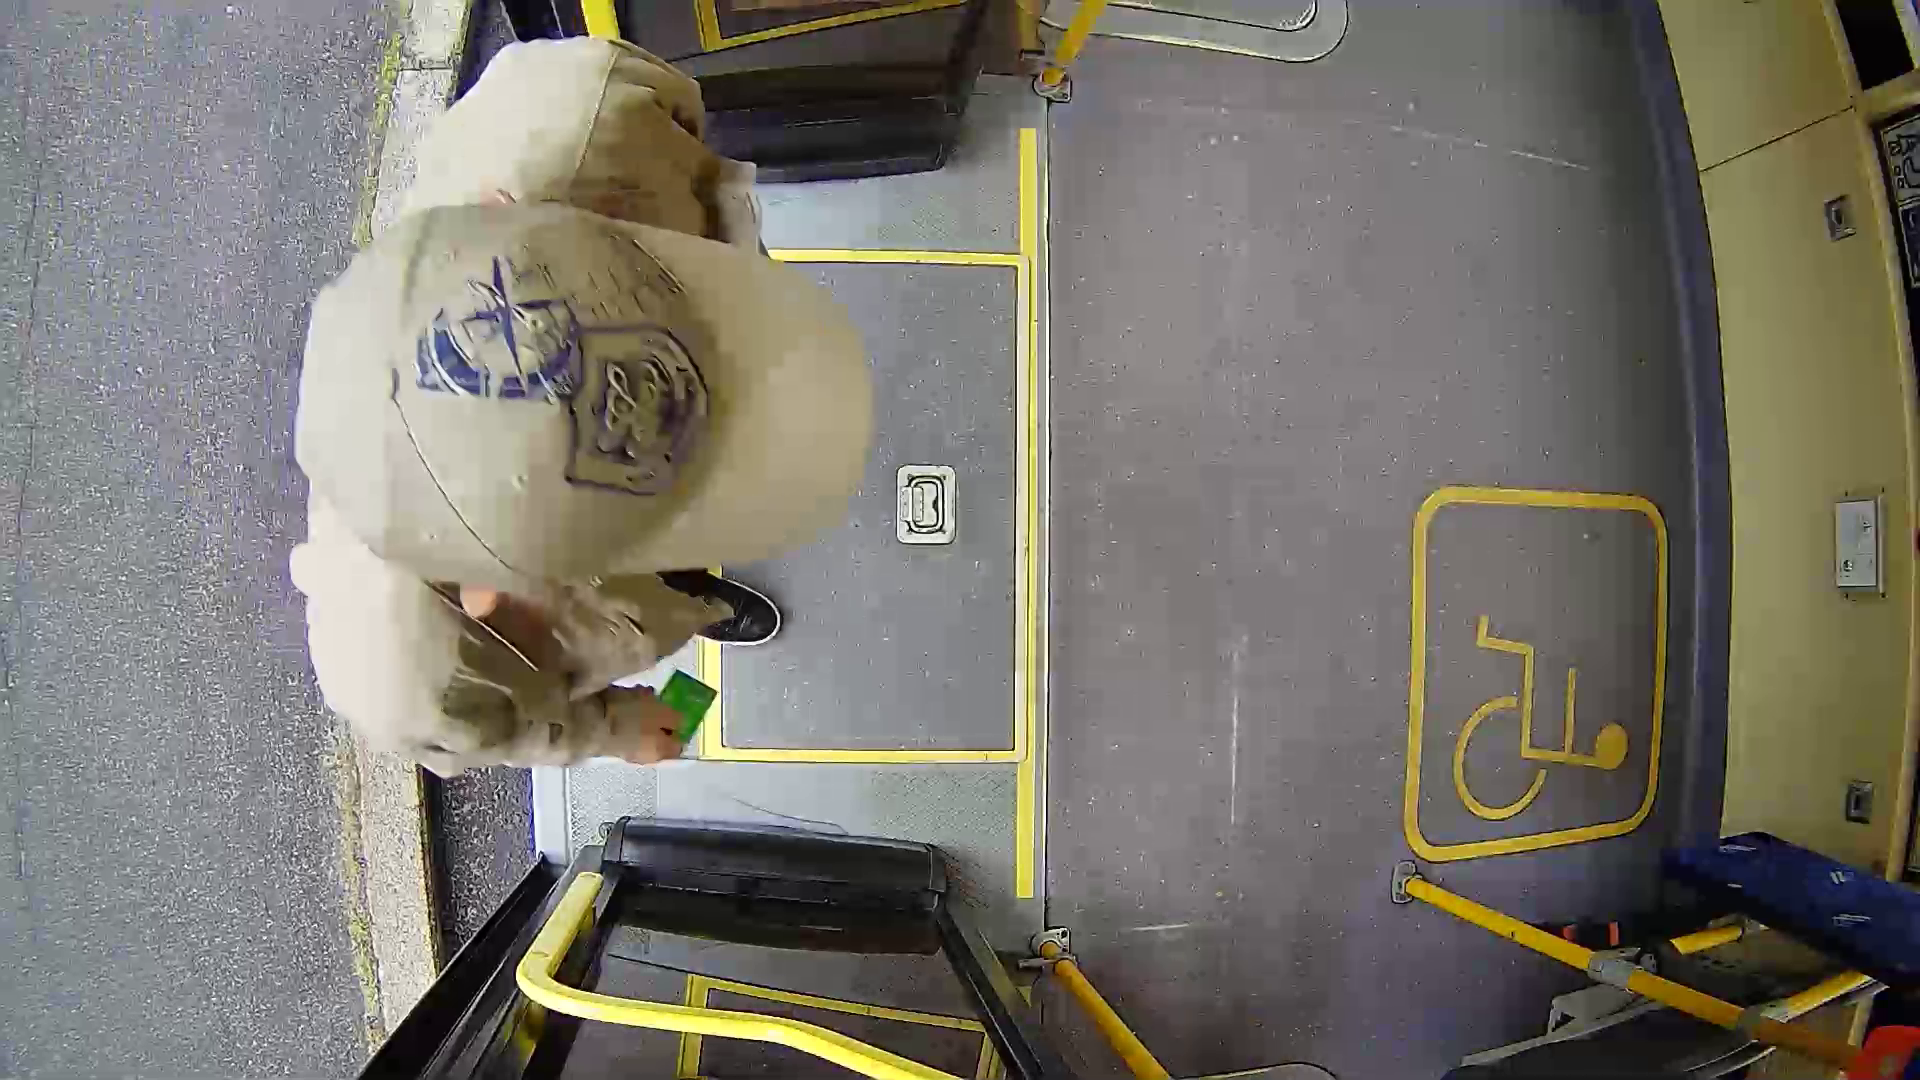person: (279, 55, 887, 758)
